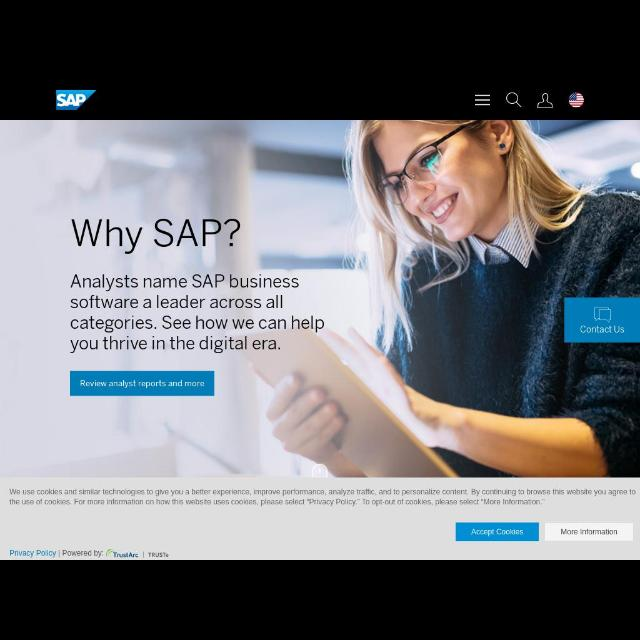backgroundimage: (334, 120, 640, 478)
icon: (505, 92, 523, 108), (593, 308, 611, 322), (474, 94, 491, 106), (538, 94, 552, 108)
iframe: (1, 478, 640, 560)
image: (56, 90, 96, 110), (105, 549, 139, 559), (568, 92, 584, 108)
panel: (1, 120, 639, 478)
text: (70, 274, 324, 354), (9, 488, 636, 508), (71, 218, 241, 254), (80, 379, 204, 388), (560, 528, 618, 536), (471, 528, 524, 536), (9, 550, 56, 558), (581, 325, 625, 333), (63, 550, 104, 558), (148, 552, 170, 558)
textbutton: (70, 372, 214, 396), (564, 298, 640, 342), (455, 522, 539, 542), (544, 523, 634, 541)
toolbar: (1, 80, 640, 120)
